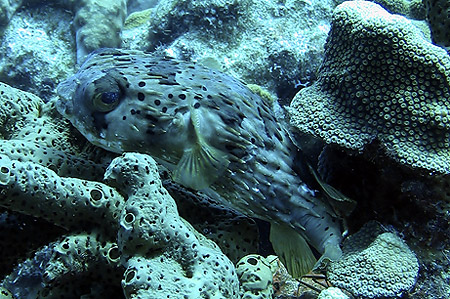Diodon_holocanthus: (59, 32, 356, 253)
